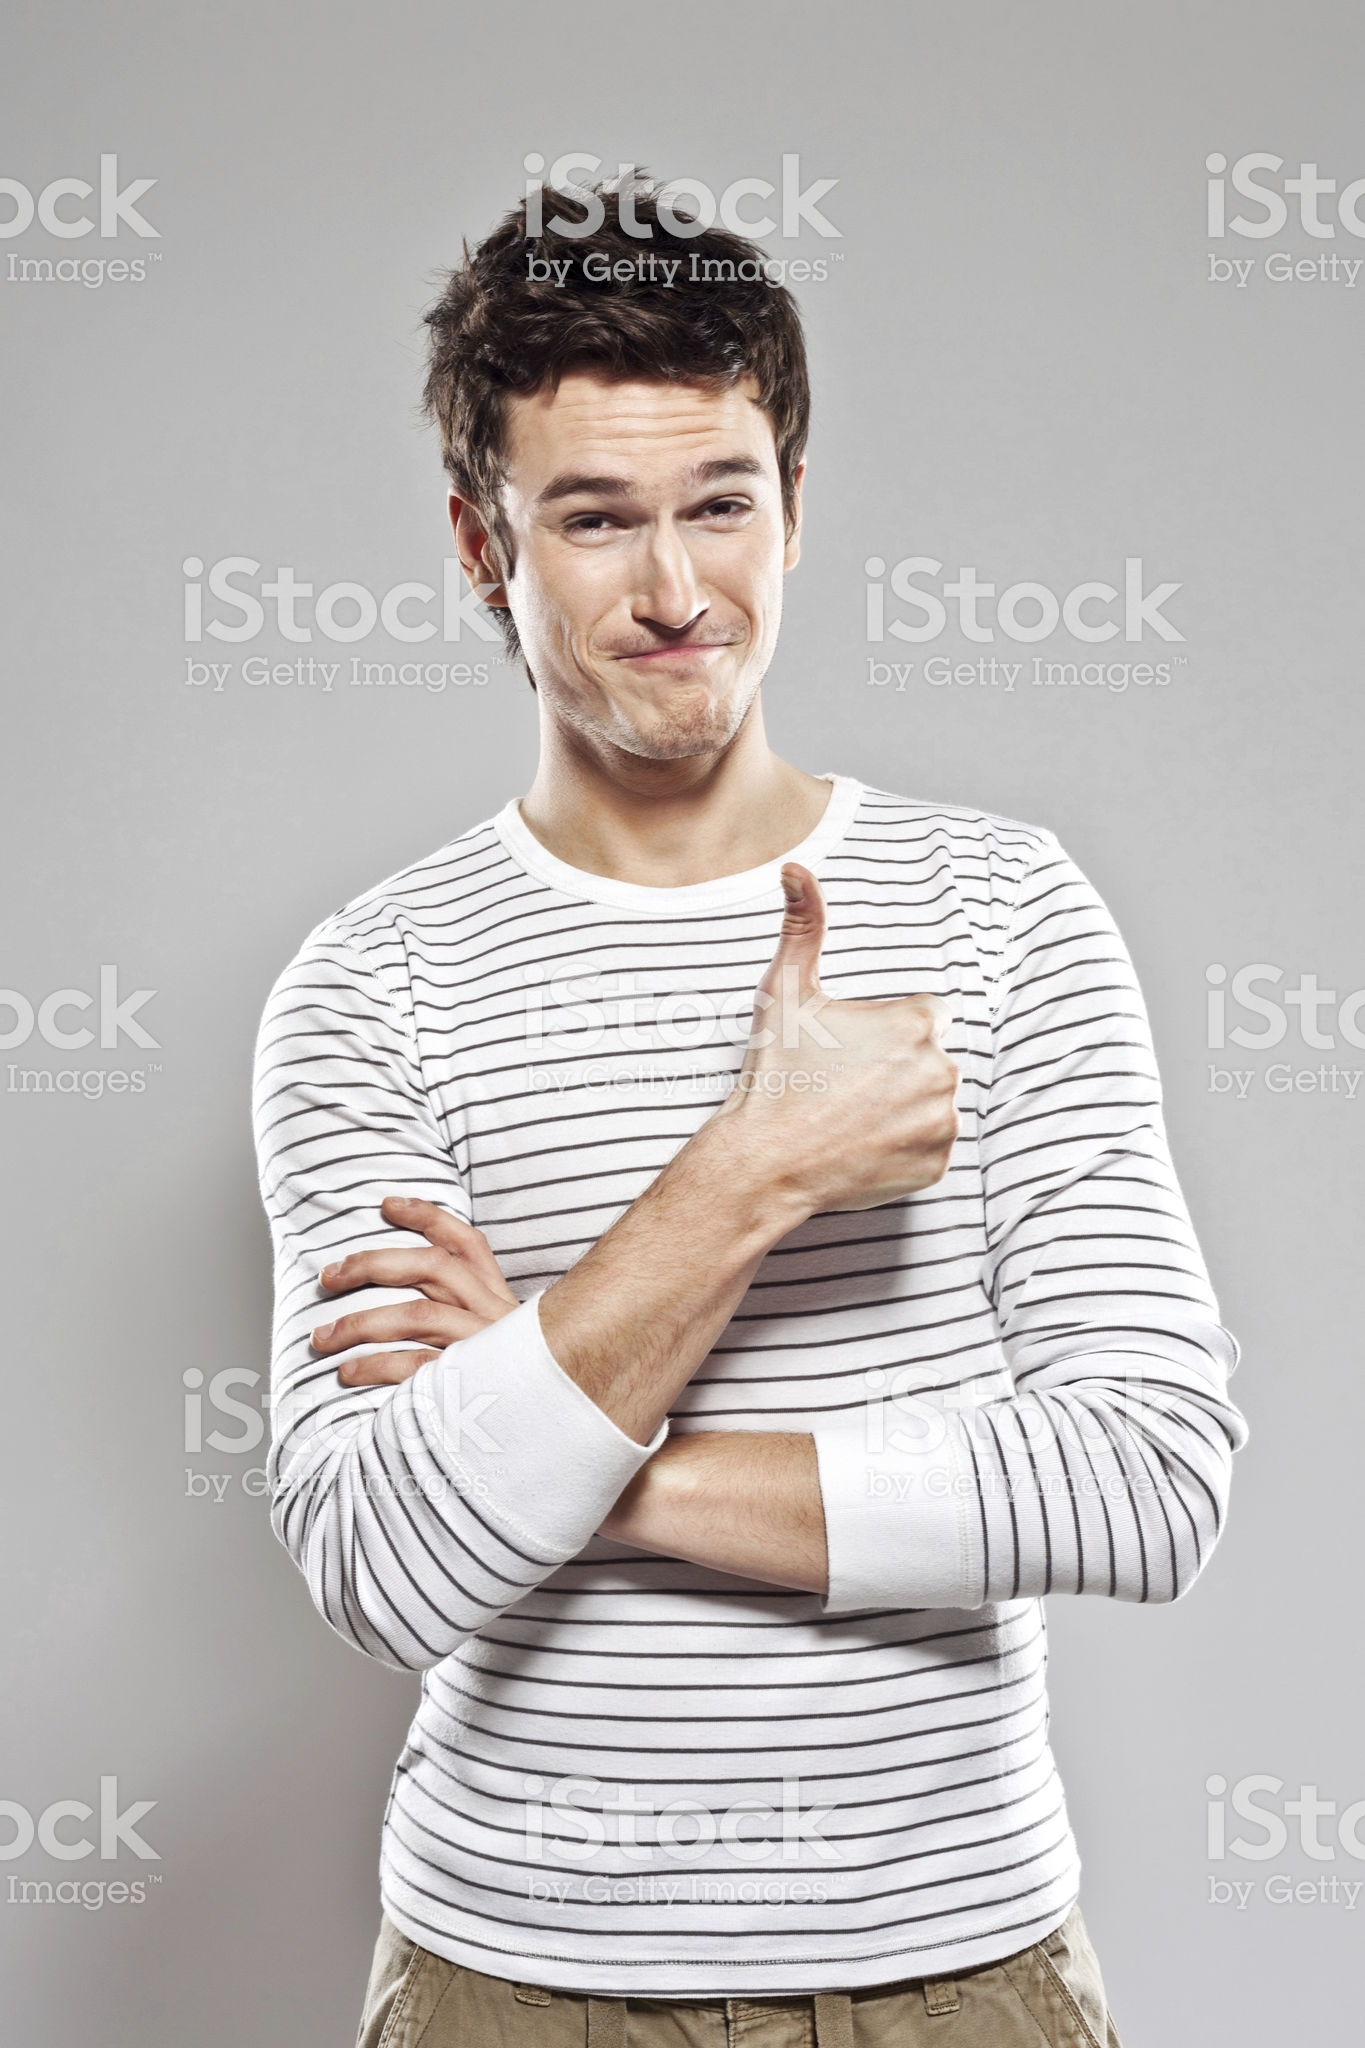thumbsup: (774, 862, 964, 1194)
